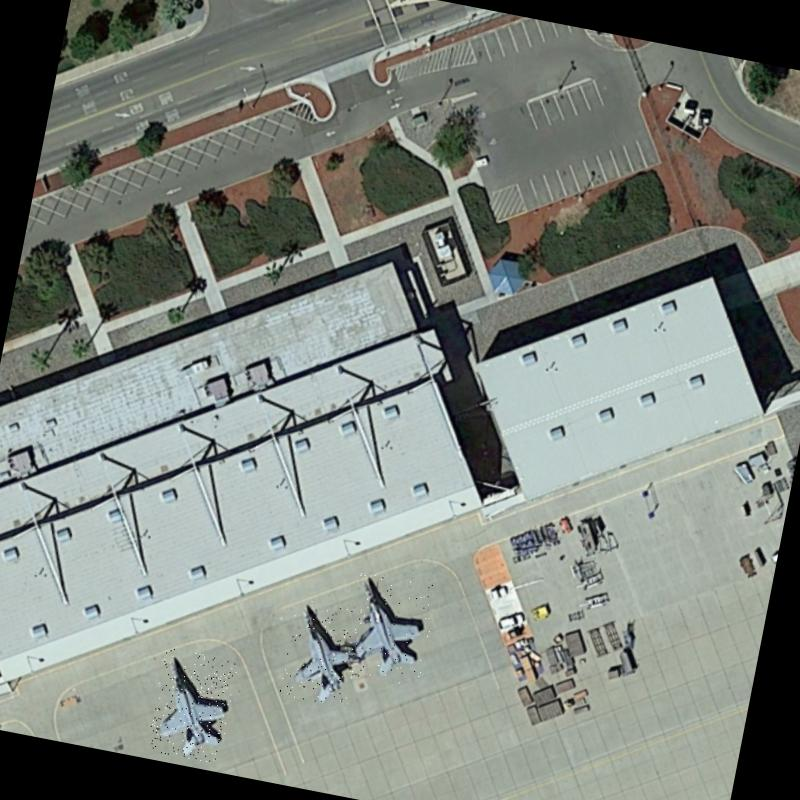A16: (340, 570, 438, 688), (145, 647, 238, 764), (279, 598, 365, 707)
